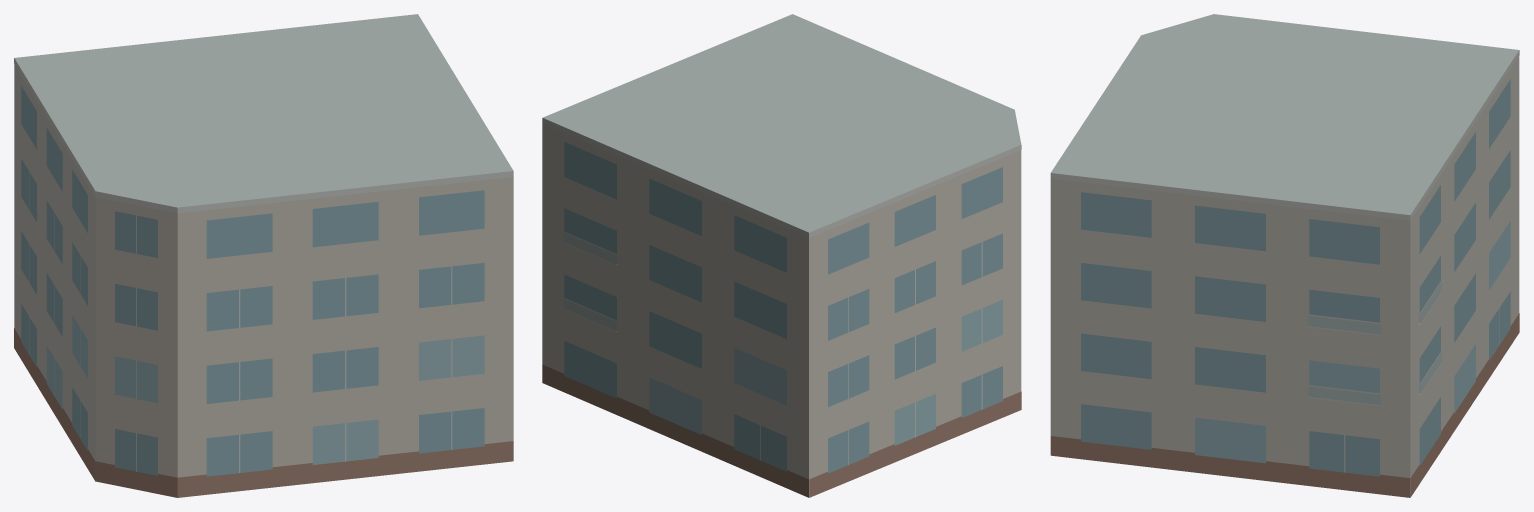
File: residential-bd51ce4e-9fdf-4dac-bf9f-ea71a06b50cc.glb
The picture shows the model from 3 angles, left to right: view 1: azimuth 30°, elevation 25°; view 2: azimuth 150°, elevation 25°; view 3: azimuth 270°, elevation 25°; orthographic projection. The views are drawn at different scales.
Visible parts, largest first — view 1: residential-bd51ce4e-9fdf-4dac-bf9f-ea71a06b50cc.tmp; view 2: residential-bd51ce4e-9fdf-4dac-bf9f-ea71a06b50cc.tmp; view 3: residential-bd51ce4e-9fdf-4dac-bf9f-ea71a06b50cc.tmp.
Boxes of the visible parts, left/top/right/bottom form: residential-bd51ce4e-9fdf-4dac-bf9f-ea71a06b50cc.tmp: left=14, top=14, right=513, bottom=497; residential-bd51ce4e-9fdf-4dac-bf9f-ea71a06b50cc.tmp: left=542, top=14, right=1021, bottom=497; residential-bd51ce4e-9fdf-4dac-bf9f-ea71a06b50cc.tmp: left=1050, top=14, right=1519, bottom=497.
Bounding box in the file's own units: 18.63 × 12.2 × 18.35.
